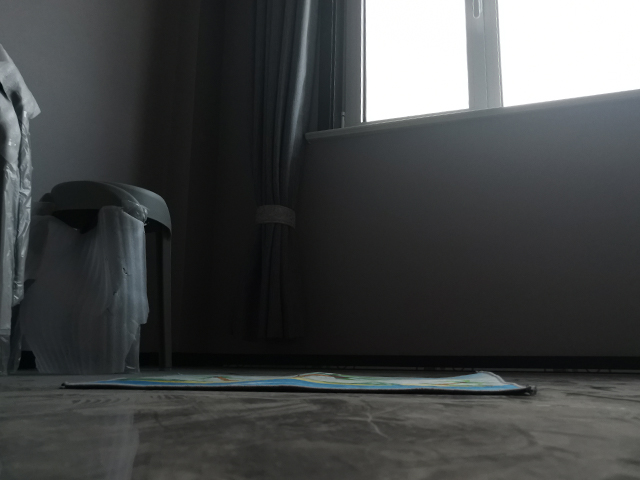carpet: (58, 367, 540, 396)
curtain: (225, 1, 318, 345)
stool: (34, 179, 175, 376)
